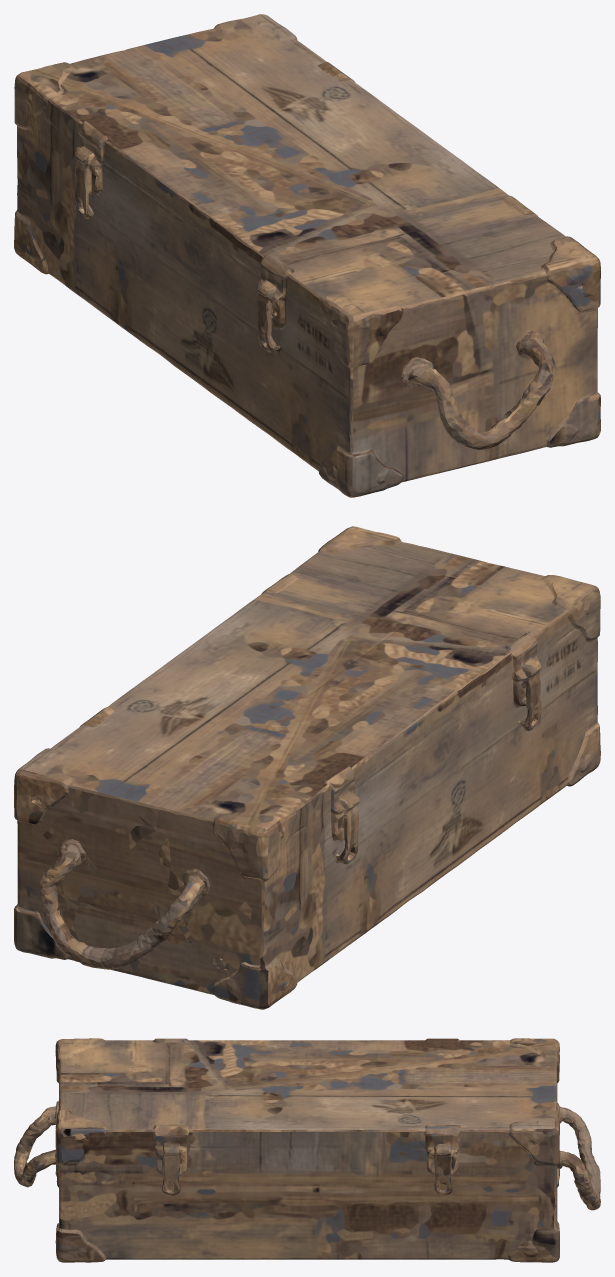
File: crate.obj
The picture shows the model from 3 angles, top to bottom: view 1: azimuth 30°, elevation 25°; view 2: azimuth 150°, elevation 25°; view 3: azimuth 270°, elevation 25°; orthographic projection. The views are drawn at different scales.
Parts seen in each view (by area): view 1: crate; view 2: crate; view 3: crate.
Boxes of the visible parts, x1,y1,x2,y2 form: crate: (14, 14, 600, 497); crate: (14, 526, 600, 1009); crate: (14, 1038, 600, 1262).
Bounding box in the file's own units: 0.6514 × 0.4128 × 1.6.
Materials: 1 (1 with a texture image).
